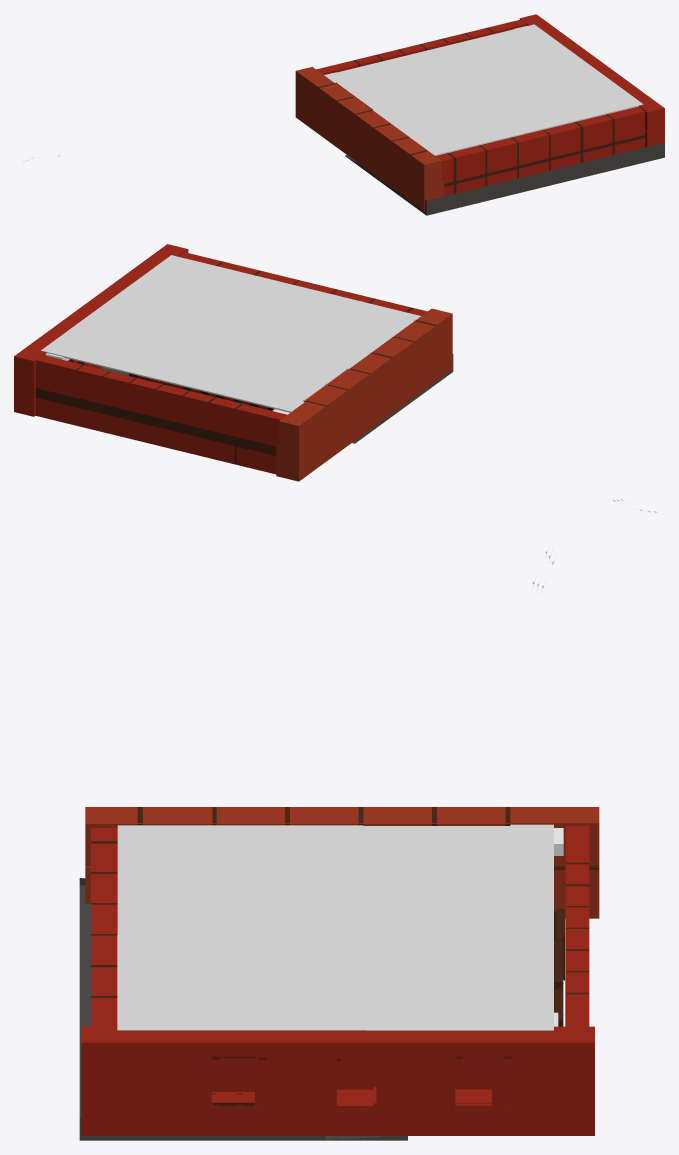
The model's file is seminarHall.fbx.
3 renders of one model, top to bottom at view 1: azimuth 30°, elevation 25°; view 2: azimuth 150°, elevation 25°; view 3: azimuth 270°, elevation 25°, orthographic. The views are drawn at different scales.
Visible parts, largest first — view 1: ceiling, right_wall, back_wall, stairs, left_wall, front_wall; view 2: ceiling, front_wall, right_wall, left_wall, back_wall, stairs; view 3: ceiling, left_wall, right_wall, back_wall, front_wall, stairs.
Boxes of the visible parts, x1,y1,x2,y2 form: ceiling: [325, 24, 643, 155]; right_wall: [295, 67, 443, 211]; back_wall: [436, 106, 644, 196]; stairs: [345, 142, 664, 215]; left_wall: [519, 14, 664, 147]; front_wall: [316, 19, 526, 74]; ceiling: [41, 255, 420, 412]; front_wall: [35, 355, 287, 474]; right_wall: [276, 308, 452, 481]; left_wall: [14, 244, 188, 416]; back_wall: [178, 252, 427, 315]; stairs: [352, 354, 453, 443]; ceiling: [117, 824, 553, 1030]; left_wall: [81, 1026, 594, 1135]; right_wall: [85, 807, 599, 918]; back_wall: [91, 828, 117, 1026]; front_wall: [565, 825, 589, 1026]; stairs: [79, 878, 407, 1140].
Bounding box in the file's own units: 9642 × 926 × 4044.
